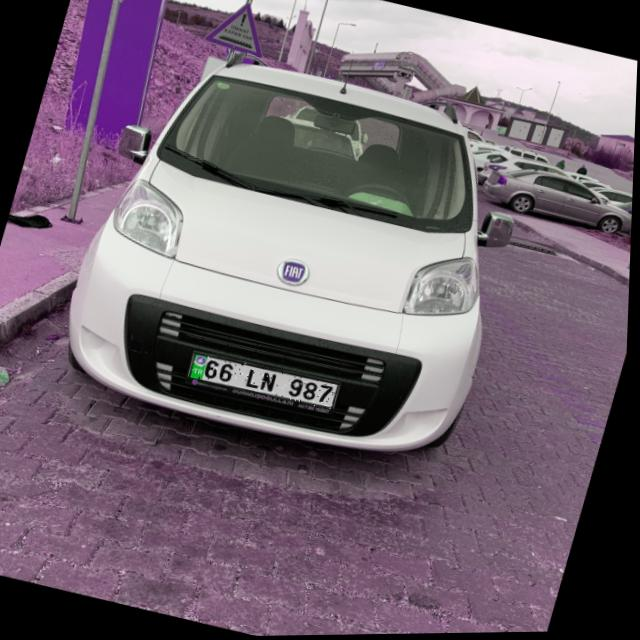license_plate: (188, 349, 342, 413)
